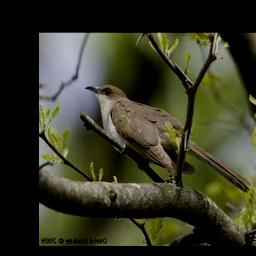Cuckoo: (87, 83, 253, 193)
